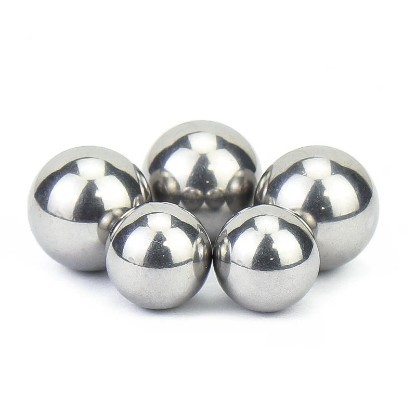ironball: (253, 144, 379, 271), (26, 145, 152, 271), (142, 119, 261, 247), (104, 201, 212, 309), (212, 203, 319, 312)
